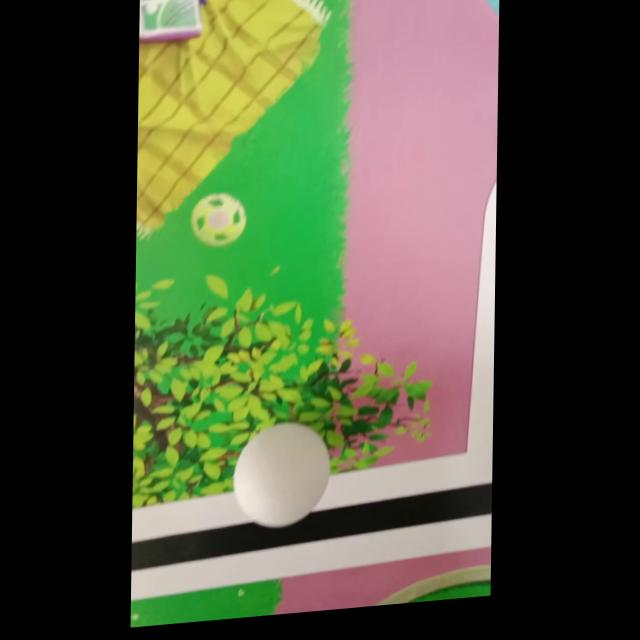white ball: (232, 417, 331, 532)
